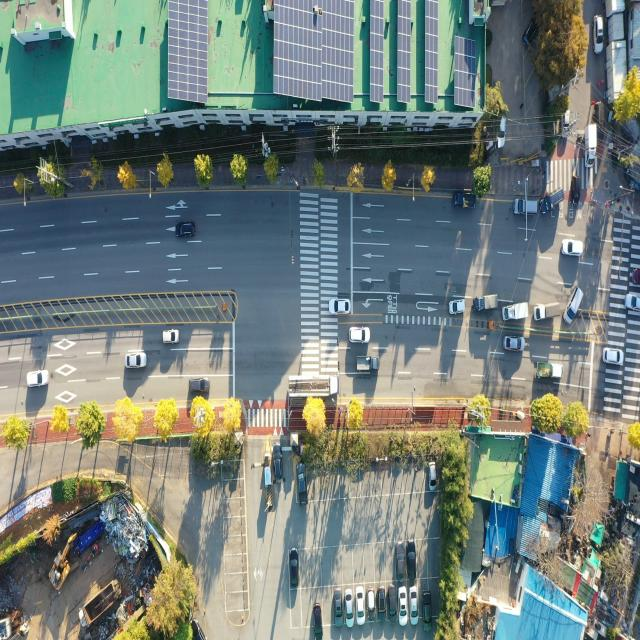car: (563, 286, 583, 326), (589, 15, 606, 56), (542, 186, 565, 214), (296, 462, 310, 503), (405, 542, 419, 583), (513, 196, 539, 217), (523, 16, 540, 48), (188, 374, 210, 396), (421, 588, 432, 632), (562, 238, 584, 258), (596, 100, 606, 142), (497, 111, 507, 151), (273, 442, 283, 482), (333, 588, 343, 628), (388, 582, 397, 624), (126, 352, 148, 369), (27, 371, 49, 388), (329, 300, 352, 316), (396, 542, 406, 578), (377, 588, 387, 623), (290, 550, 299, 588), (603, 348, 623, 365), (366, 588, 376, 622), (572, 171, 582, 205), (314, 603, 323, 639), (176, 221, 196, 237), (560, 111, 570, 141), (398, 587, 406, 624), (356, 587, 364, 624), (346, 590, 354, 626), (428, 459, 437, 491), (349, 327, 368, 342), (625, 292, 640, 310), (506, 338, 524, 352), (411, 589, 418, 624), (450, 300, 465, 316), (163, 331, 179, 345), (632, 262, 640, 288)
medium_truck: (287, 372, 339, 399)
small_truck: (533, 300, 562, 323), (473, 293, 499, 317), (584, 122, 596, 170), (503, 302, 530, 323), (534, 363, 564, 380), (453, 193, 476, 211), (355, 357, 377, 371)
